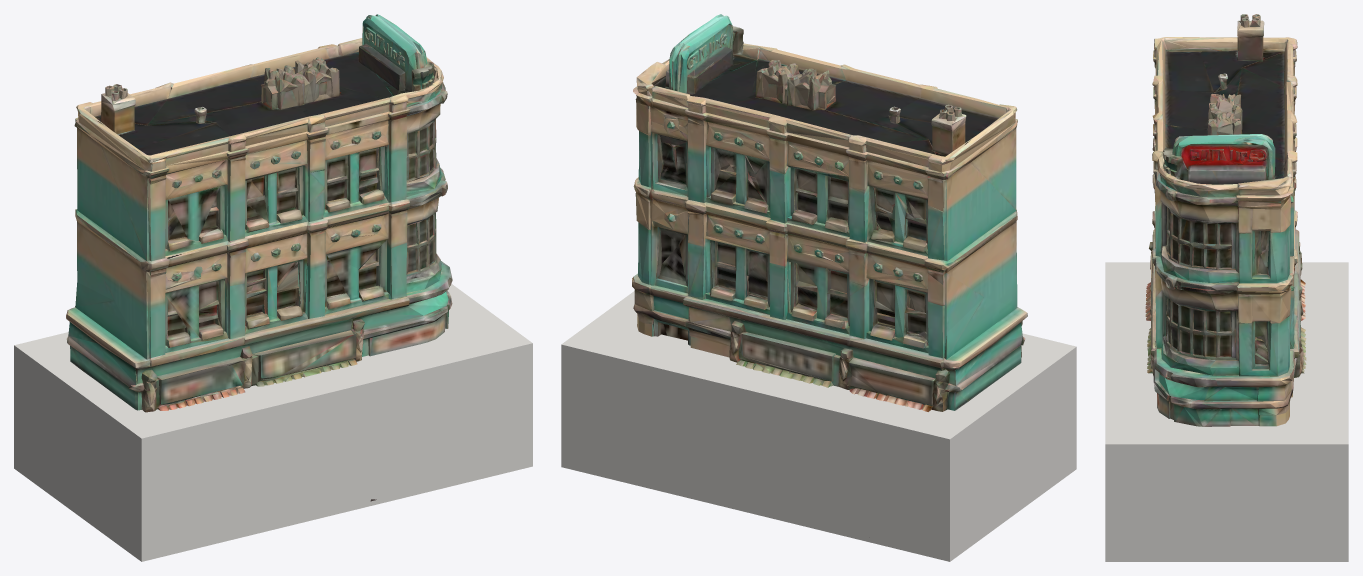
The model's file is town_shops_modern.glb.
3 renders of one model, left to right at view 1: azimuth 30°, elevation 25°; view 2: azimuth 150°, elevation 25°; view 3: azimuth 270°, elevation 25°, orthographic. The views are drawn at different scales.
Parts seen in each view (by area): view 1: normalize, plinth; view 2: normalize, plinth; view 3: normalize, plinth.
Boxes of the visible parts, left/top/right/bottom form: normalize: left=66, top=14, right=452, bottom=501; plinth: left=14, top=284, right=532, bottom=561; normalize: left=632, top=14, right=1027, bottom=411; plinth: left=561, top=291, right=1076, bottom=561; normalize: left=1145, top=14, right=1306, bottom=426; plinth: left=1105, top=262, right=1348, bottom=561.
Size of the model in its own units: 0.9999 by 1 by 0.5646.
2 materials, 1 textured.
